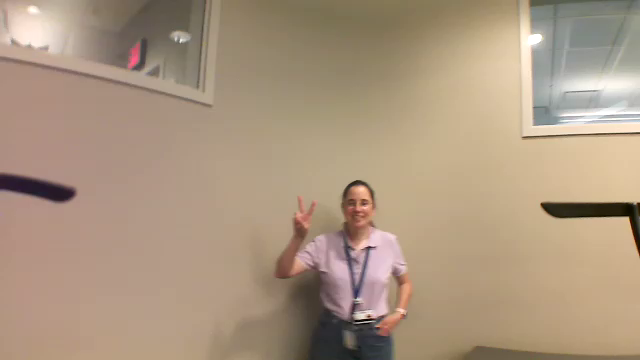peace: (291, 191, 321, 237)
